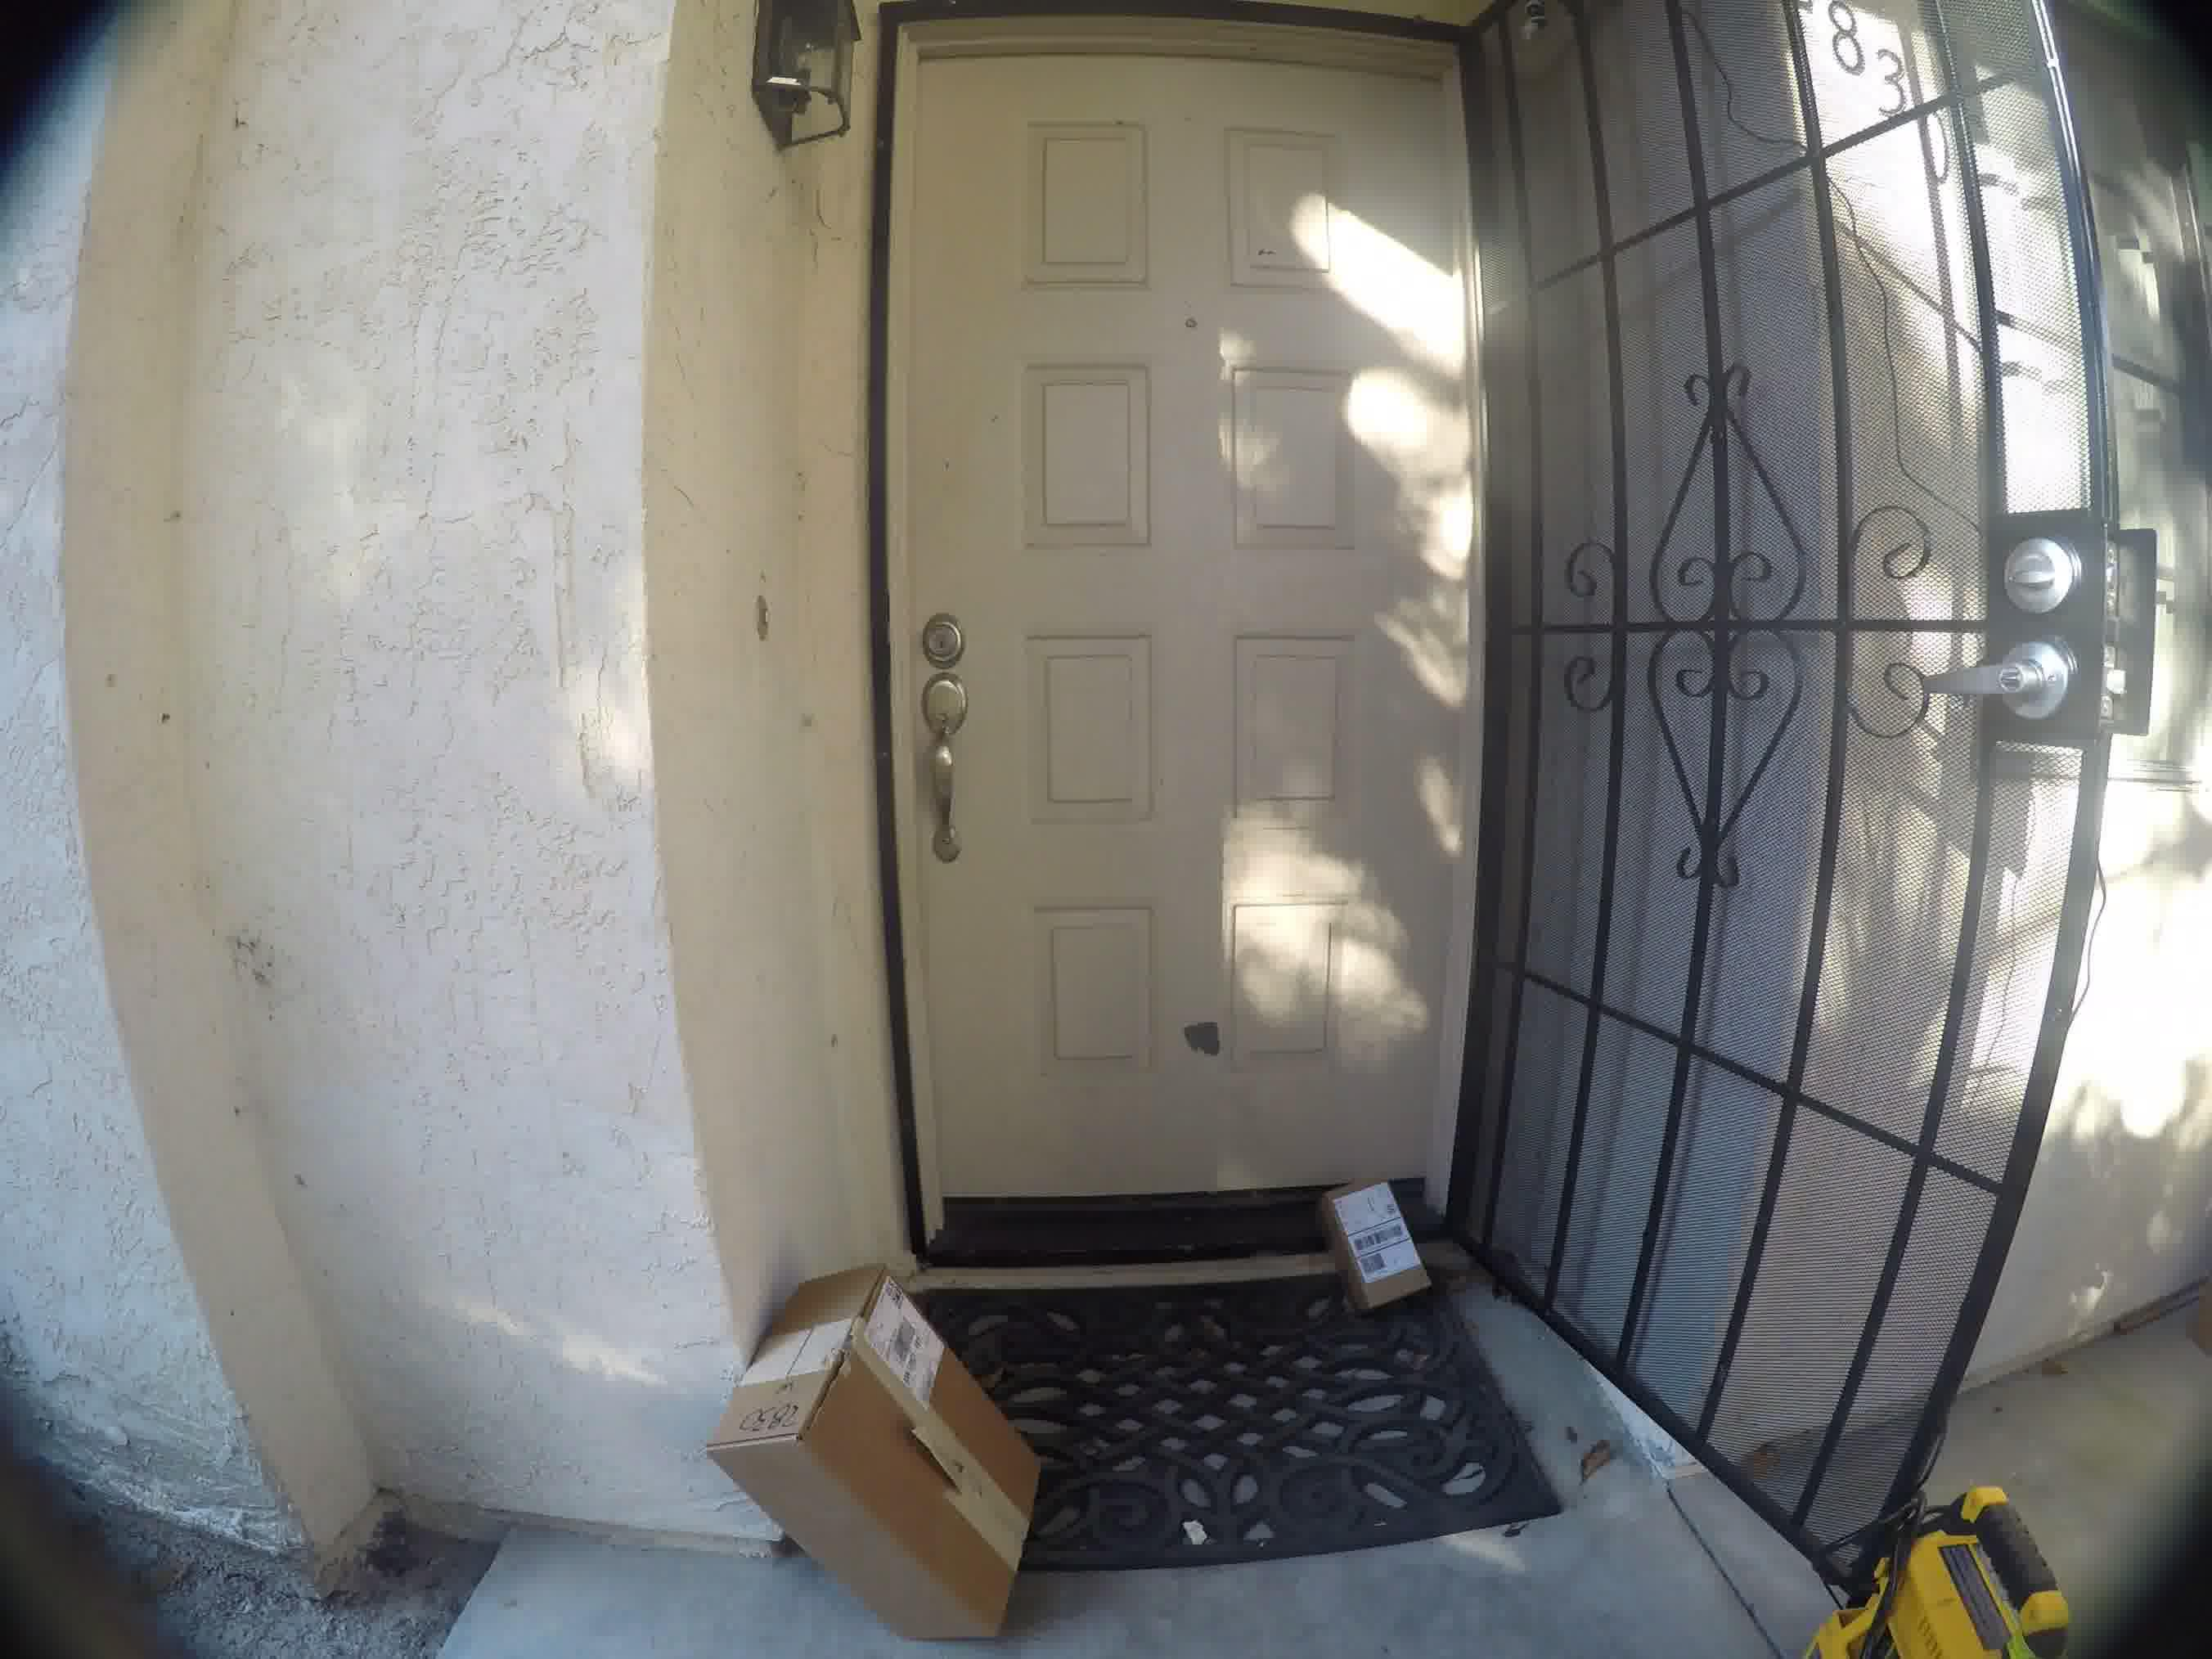box: (685, 1260, 1054, 1640), (1301, 1185, 1433, 1302)
